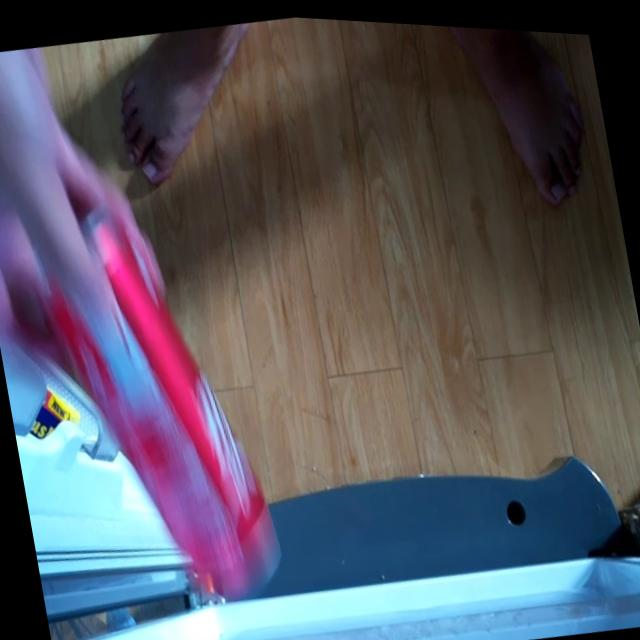coke: (23, 190, 291, 617)
